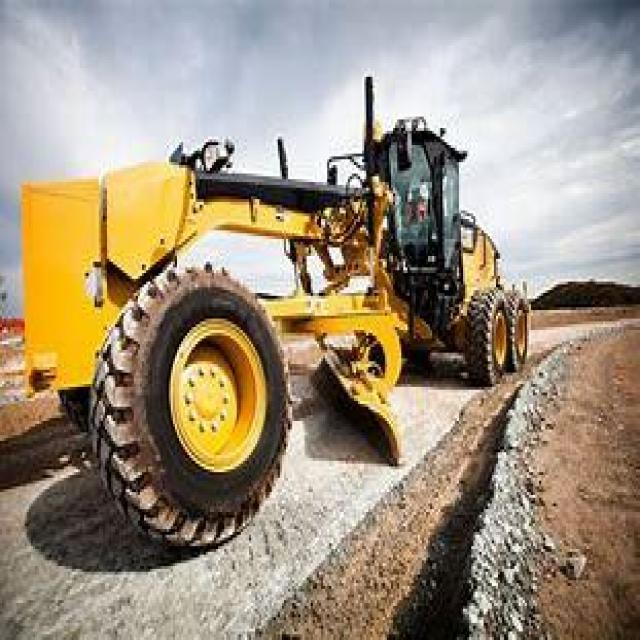Grader: (25, 68, 545, 538)
